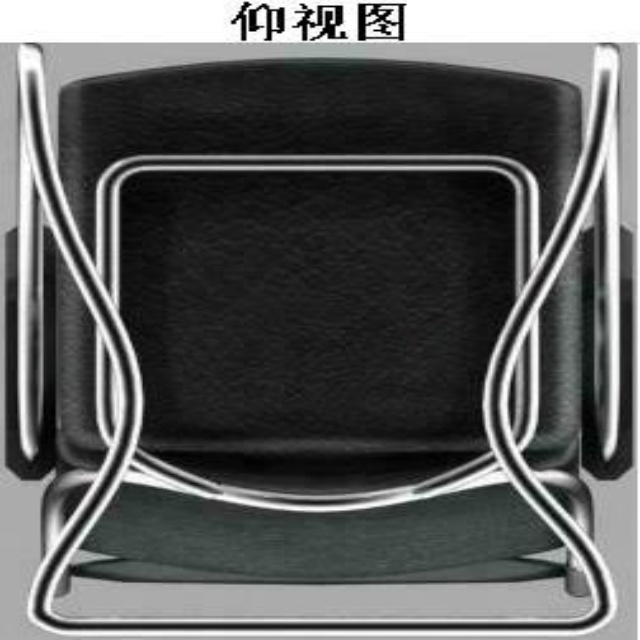obstacle: (3, 44, 632, 638)
